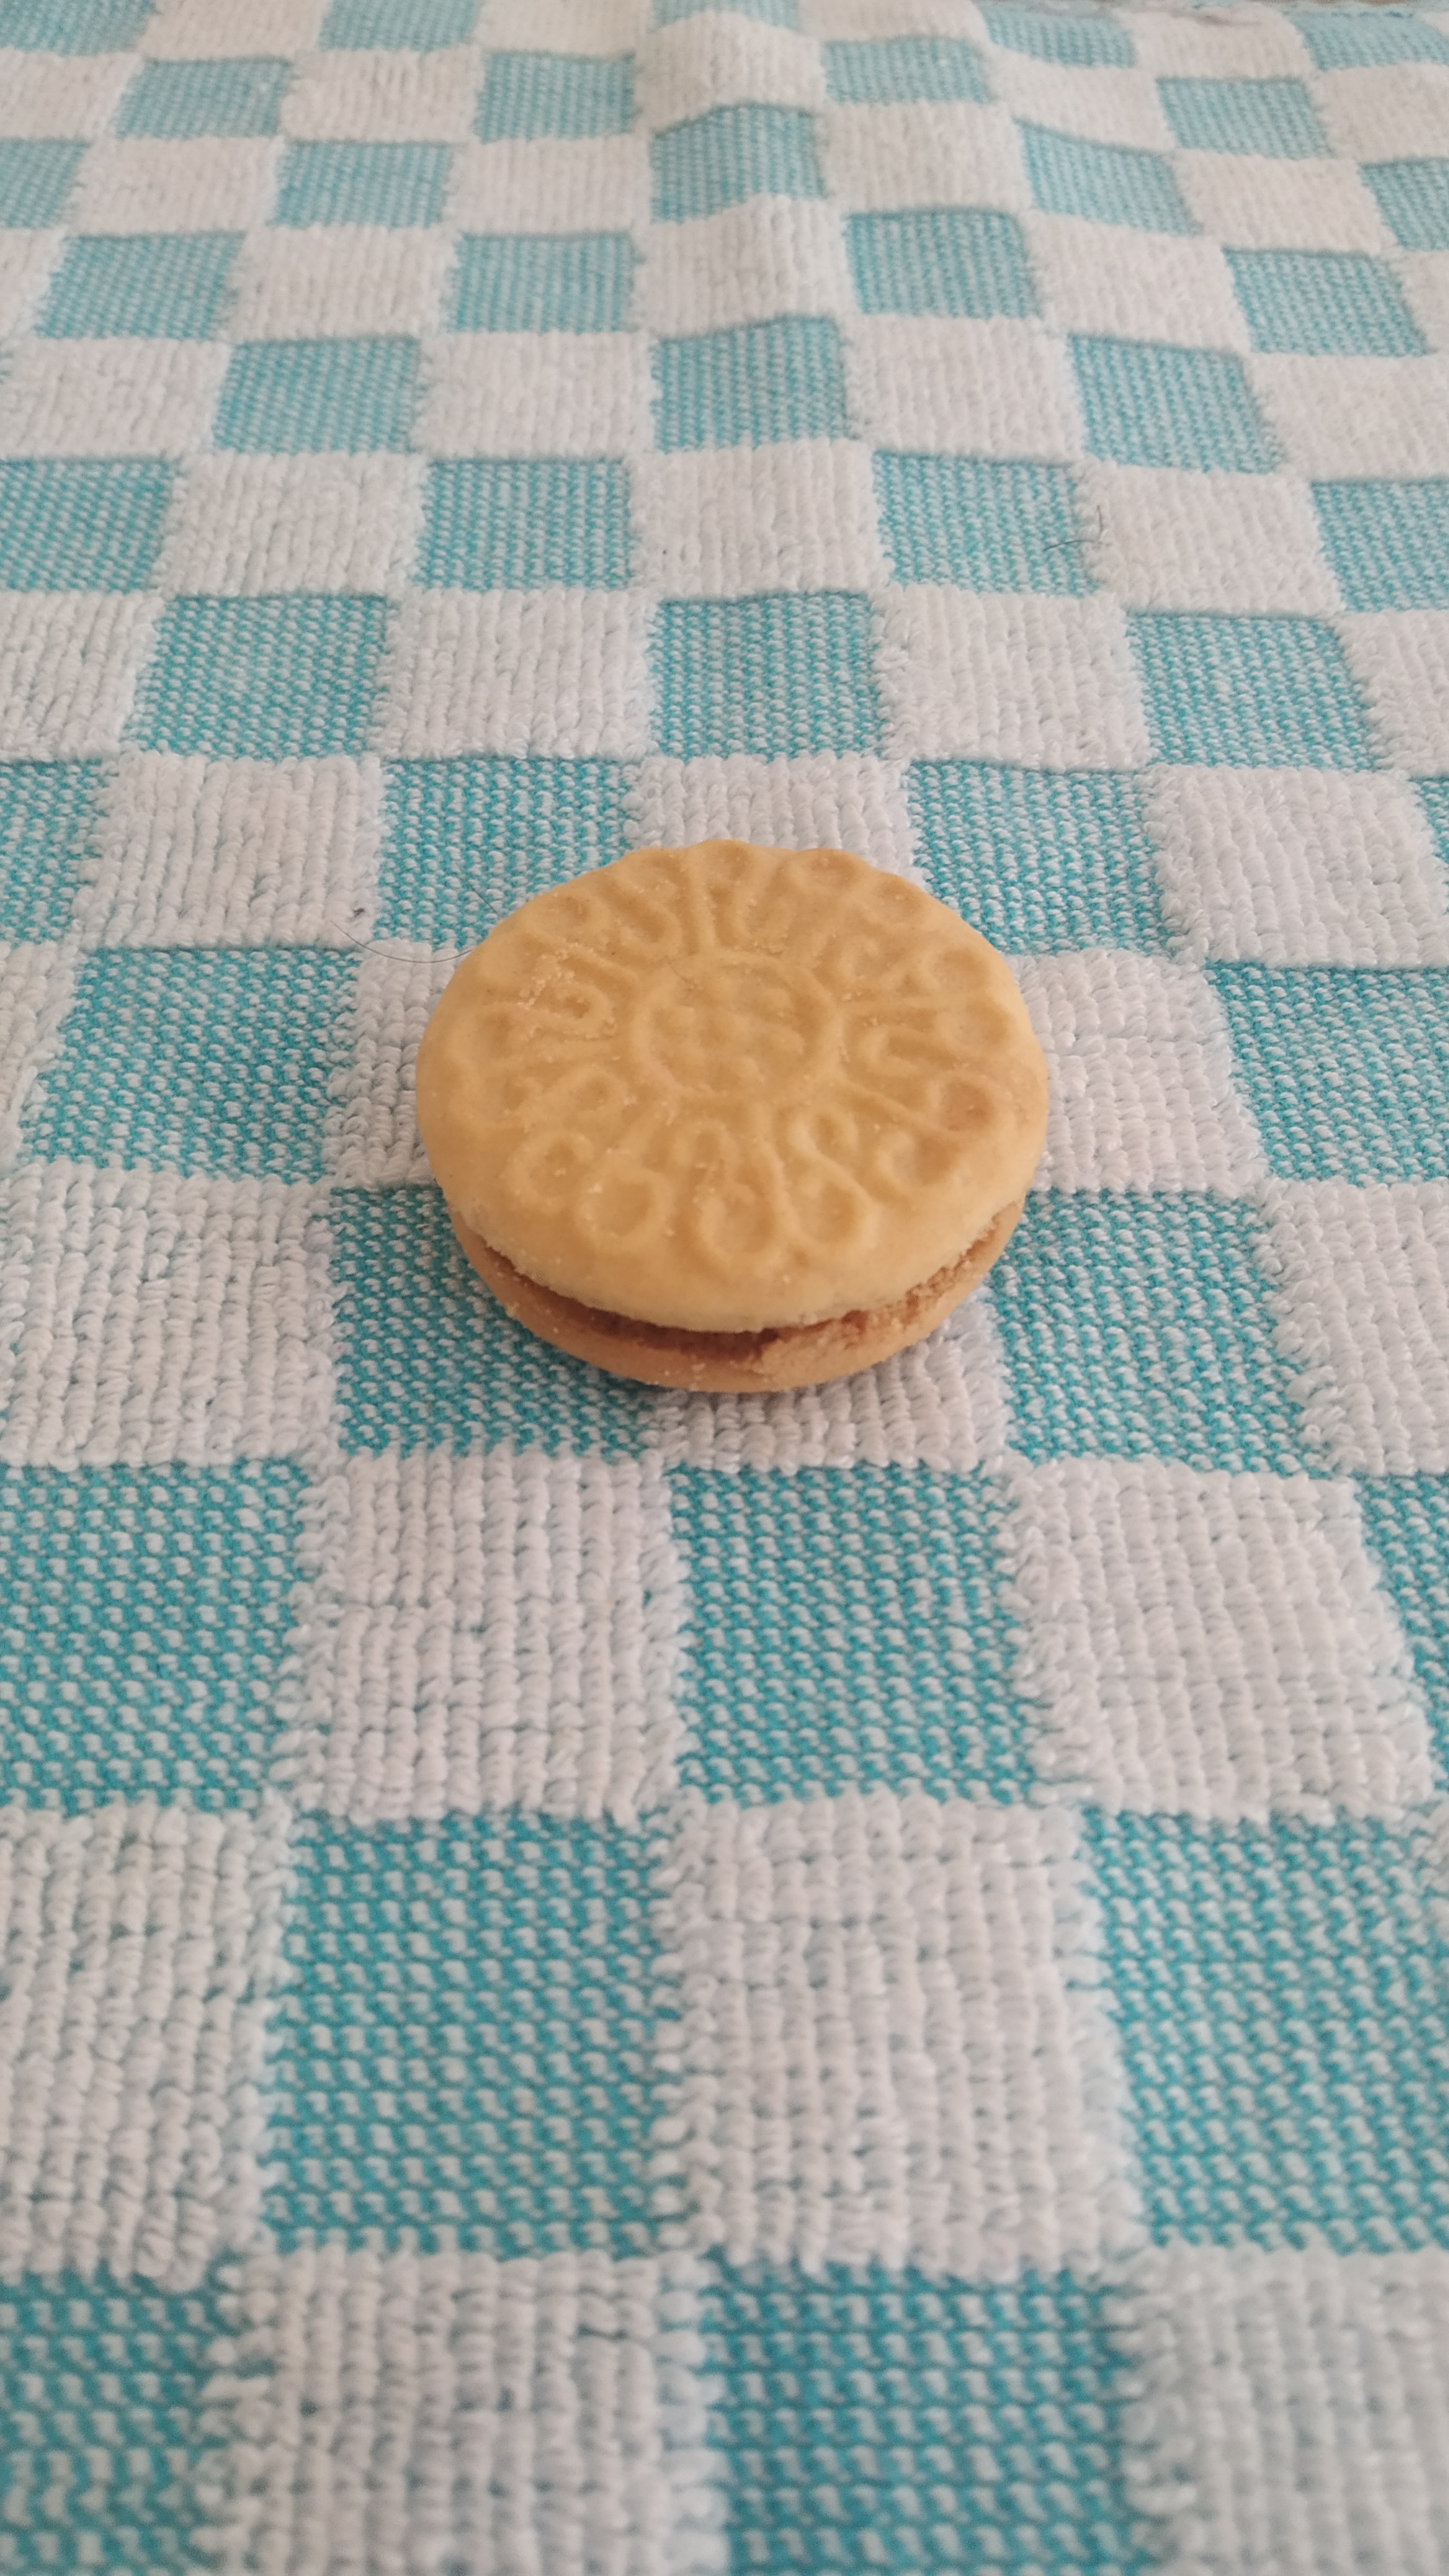lulu: (419, 842, 1049, 1392)
